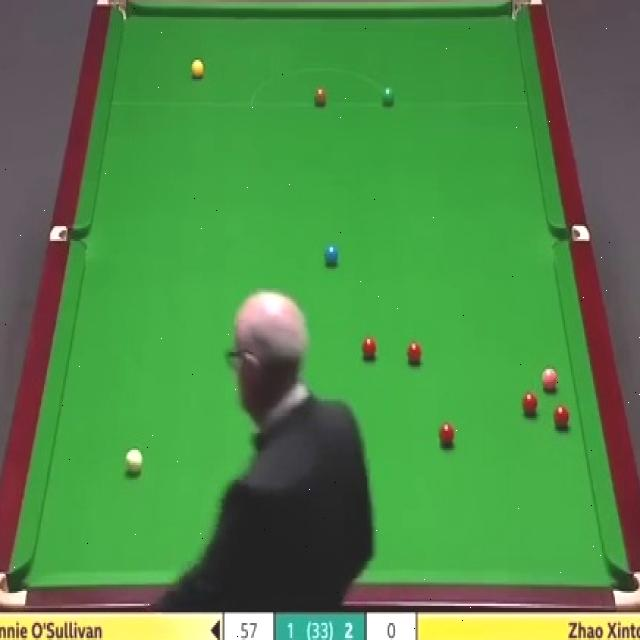blue-ball: (325, 244, 338, 268)
brown-ball: (314, 88, 327, 107)
green-ball: (382, 86, 394, 106)
pink-ball: (542, 365, 559, 393)
red-ball: (437, 422, 456, 448), (407, 338, 423, 365), (361, 336, 376, 361), (522, 392, 538, 415), (555, 407, 569, 430)
white-ball: (124, 446, 142, 476)
yellow-ball: (190, 59, 206, 82)
